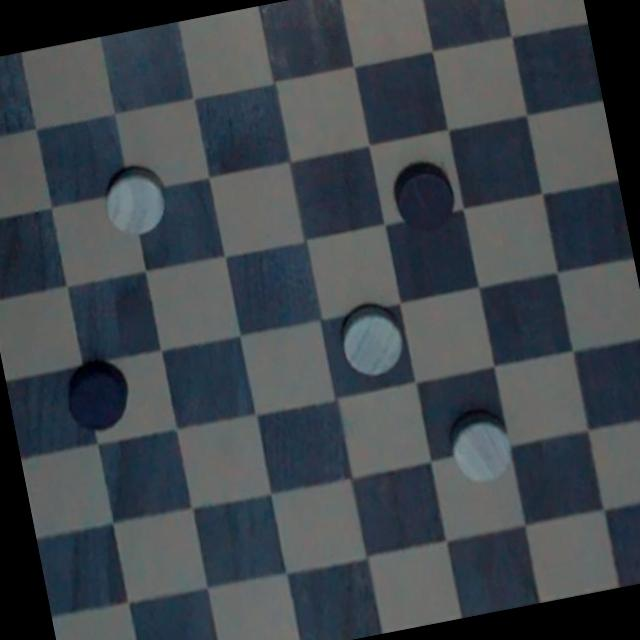BOARD: (0, 0, 640, 640)
black: (57, 349, 142, 443), (386, 152, 466, 238)
white: (330, 294, 415, 388), (440, 402, 524, 496), (96, 158, 176, 242)
